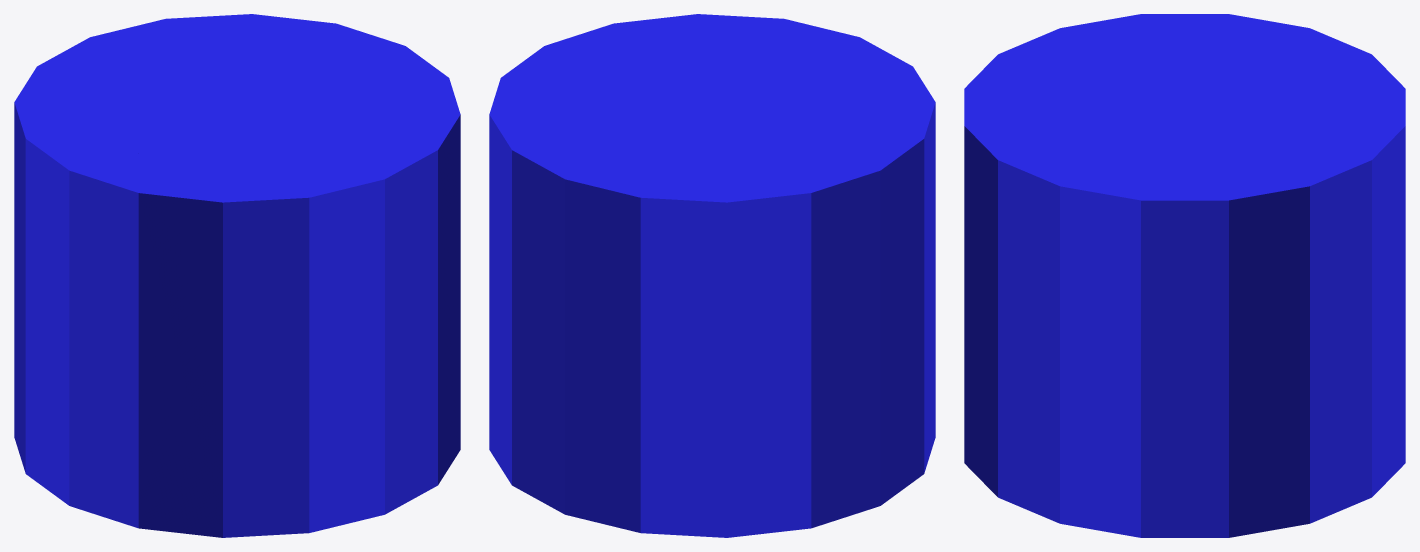
3 renders of one model, left to right at view 1: azimuth 30°, elevation 25°; view 2: azimuth 150°, elevation 25°; view 3: azimuth 270°, elevation 25°, orthographic.
Visible parts, largest first — view 1: Right_BarrettHand_fingerBase_respondable2; view 2: Right_BarrettHand_fingerBase_respondable2; view 3: Right_BarrettHand_fingerBase_respondable2.
Part boxes in pixels (x1,y1,x2,y2): Right_BarrettHand_fingerBase_respondable2: (14,14,460,537); Right_BarrettHand_fingerBase_respondable2: (489,14,935,537); Right_BarrettHand_fingerBase_respondable2: (964,14,1405,537).
Size of the model in its own units: 0.0298 by 0.0251 by 0.0298.
